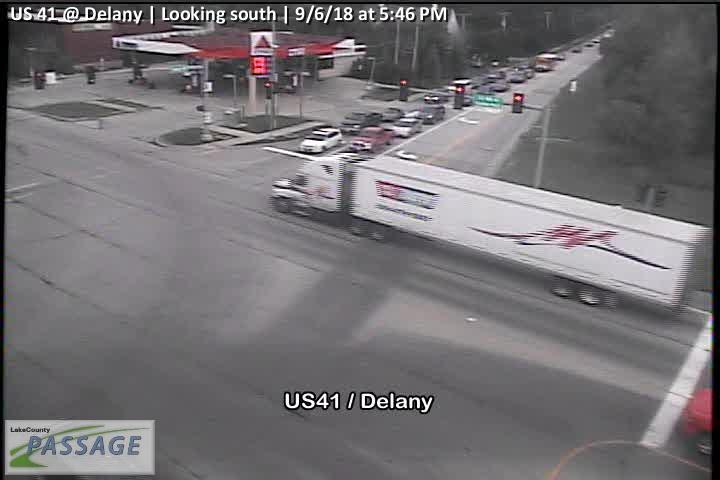SUV: (298, 126, 343, 153), (422, 106, 447, 124)
Sedan: (393, 118, 424, 138), (424, 88, 449, 101), (514, 69, 537, 82), (362, 113, 385, 125), (383, 107, 403, 120), (491, 81, 512, 91)
Truck: (269, 152, 714, 319), (349, 125, 395, 154), (536, 54, 565, 72)
